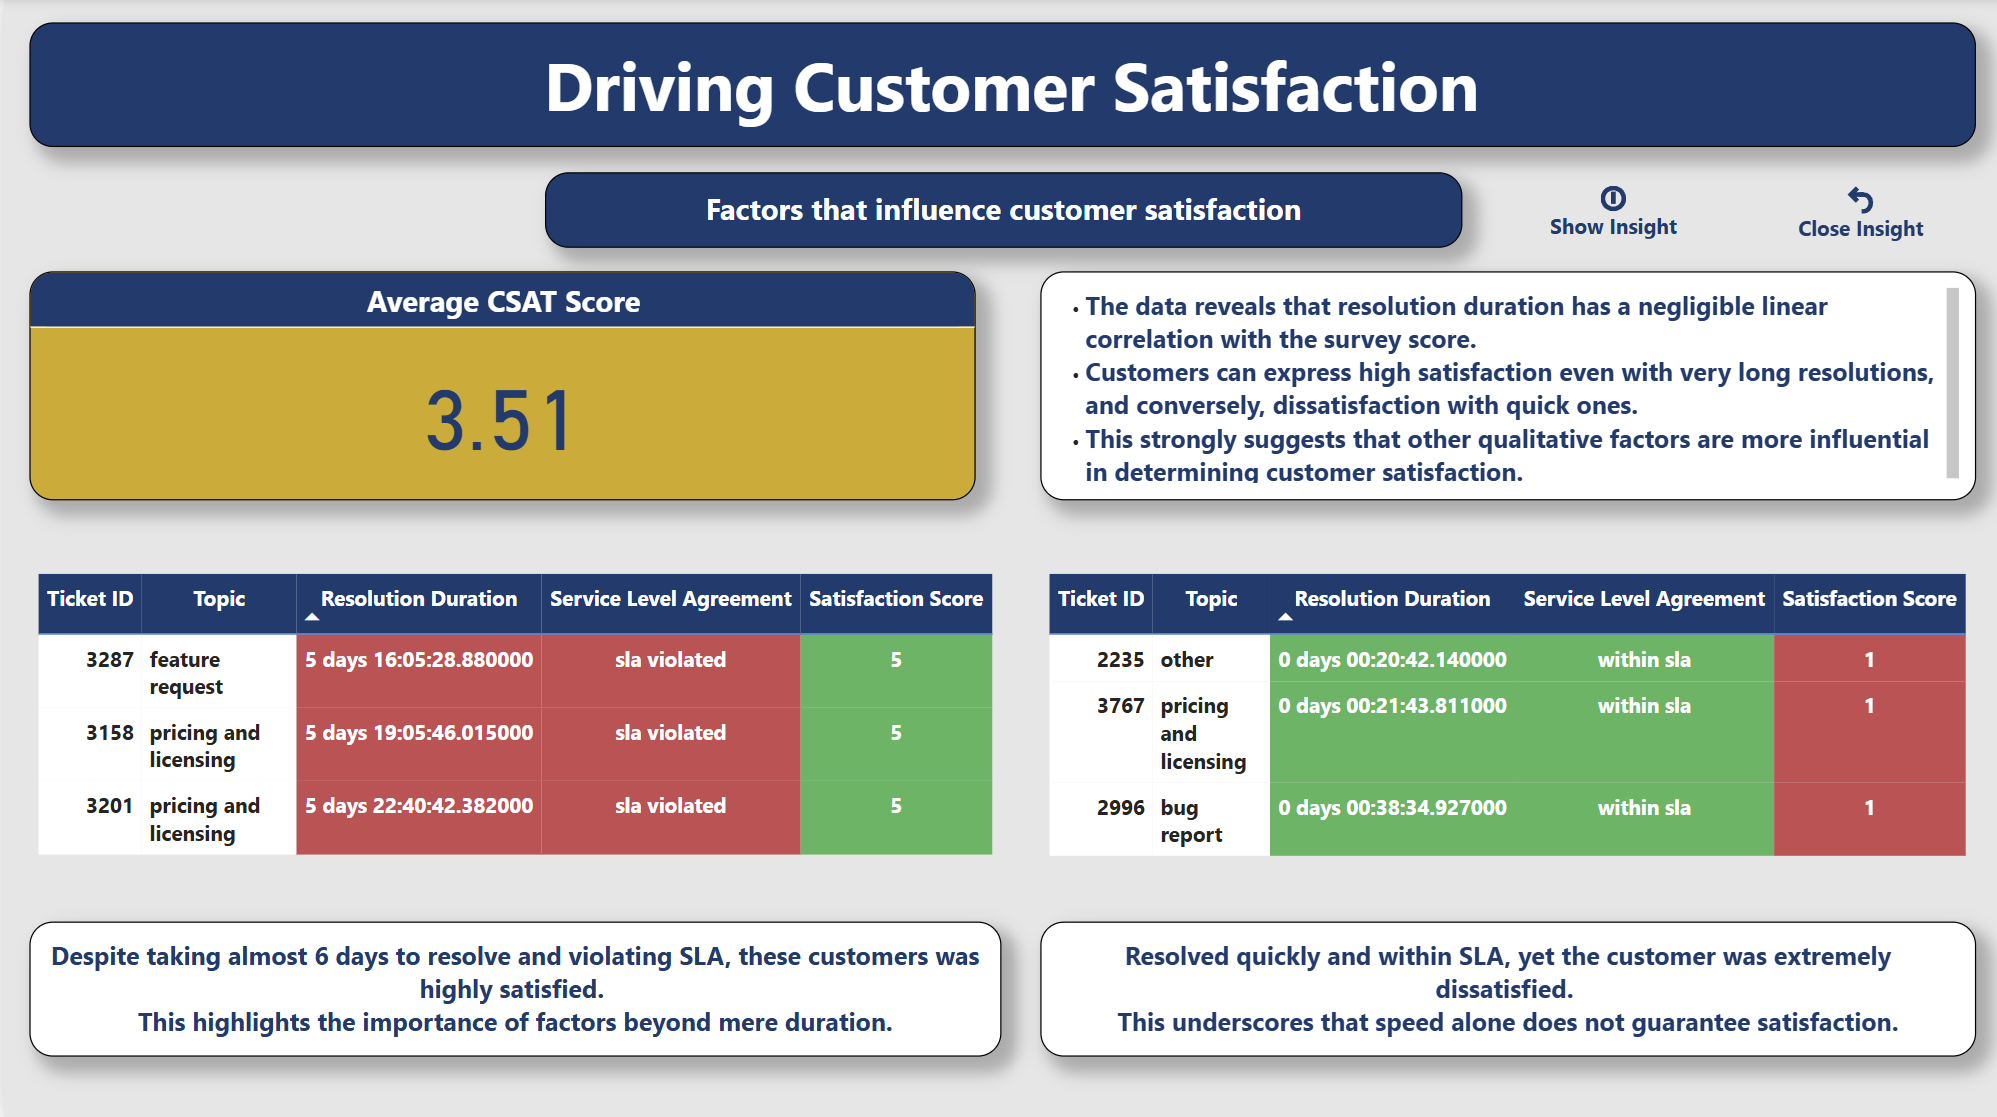

This screenshot's page, from the dashboard's own definition file:
{"tool":"powerbi","page":{"name":"Customer Satisfaction Driver","canvas":[1280,720],"ordinal":5},"visuals":[{"type":"textbox","box":[16,16,1248,80],"z":0},{"type":"textbox","box":[346.7,111.7,588.3,48.3],"z":1000},{"type":"textbox","box":[665,176.7,600,146.7],"z":6000},{"type":"card","title":"Average CSAT Score","fields":{"Values":["technical_support_data_engineered.Overall Average CSAT Score"]},"box":[16.7,176.7,606.7,146.7],"z":7000},{"type":"tableEx","title":"das","fields":{"Values":["technical_support_data_engineered.Ticket ID","technical_support_data_engineered.Topic","technical_support_data_engineered.Actual_Resolution_Duration","technical_support_data_engineered.SLA For Resolution","technical_support_data_engineered.Survey results"]},"box":[16.7,365,625,196.7],"z":8000},{"type":"tableEx","title":"uuuu","fields":{"Values":["technical_support_data_engineered.Ticket ID","technical_support_data_engineered.Topic","technical_support_data_engineered.Actual_Resolution_Duration","technical_support_data_engineered.SLA For Resolution","Sum(technical_support_data_engineered.Survey results)"]},"box":[665,365,600,196.7],"z":9000},{"type":"textbox","title":"fsfs","box":[16.7,593.3,623.3,86.7],"z":10000},{"type":"textbox","title":"cszc","box":[665,593.3,600,86.7],"z":11000},{"type":"actionButton","title":"show insight button","box":[950,116.7,165,40],"z":13000},{"type":"actionButton","title":"close insight button","box":[1115,116.7,150,43.3],"z":14000}]}

Visuals, with their boxes in screenshot pixels (x1, y1, x2, y2), scaled from the page's 1280x720 canvas onto the 1997x1117 screenshot:
textbox: BBox(25, 25, 1972, 149)
textbox: BBox(541, 173, 1459, 248)
textbox: BBox(1038, 274, 1974, 502)
"Average CSAT Score" card: BBox(26, 274, 973, 502)
"das" tableEx: BBox(26, 566, 1001, 871)
"uuuu" tableEx: BBox(1038, 566, 1974, 871)
"fsfs" textbox: BBox(26, 920, 998, 1055)
"cszc" textbox: BBox(1038, 920, 1974, 1055)
"show insight button" actionButton: BBox(1482, 181, 1740, 243)
"close insight button" actionButton: BBox(1740, 181, 1974, 248)
